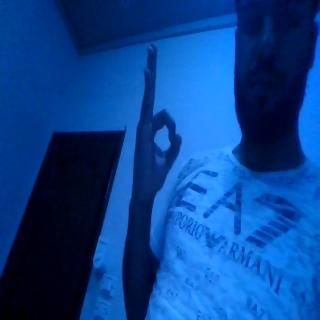Space: (130, 17, 184, 211)
